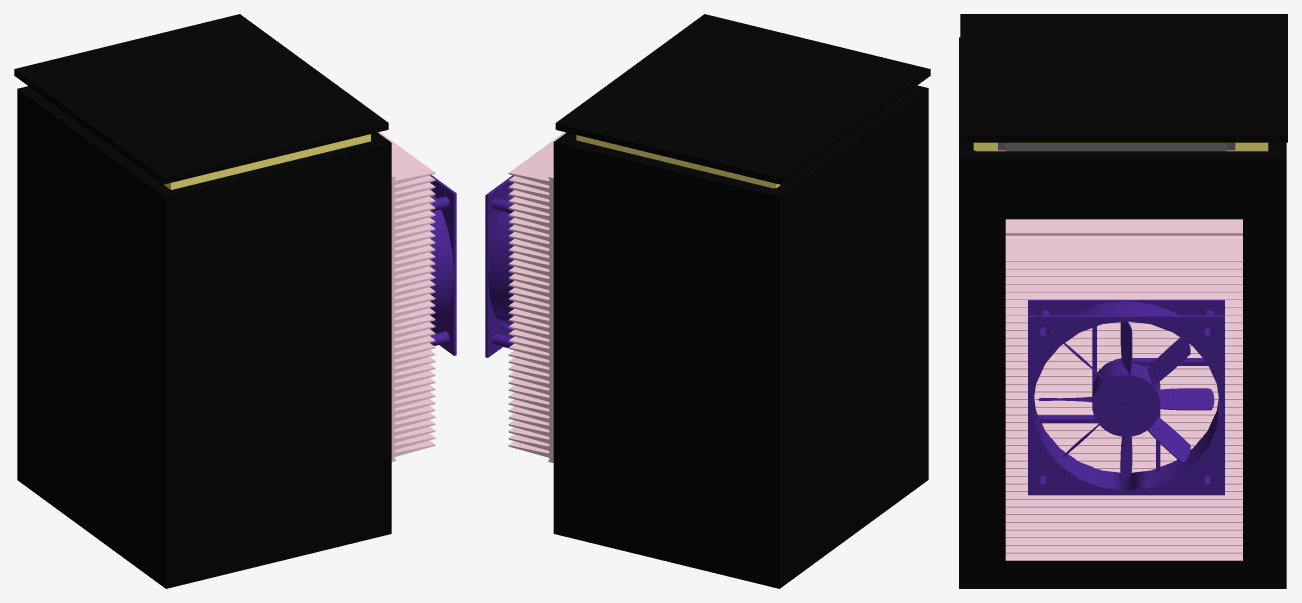
File: ifrost_explodedview.glb
The picture shows the model from 3 angles, left to right: view 1: azimuth 30°, elevation 25°; view 2: azimuth 150°, elevation 25°; view 3: azimuth 270°, elevation 25°; orthographic projection. The views are drawn at different scales.
Parts seen in each view (by area): view 1: CorpoCaixa, Tampa_solo, CoolerQuente, Ventilador.001, Revestimento; view 2: CorpoCaixa, Tampa_solo, CoolerQuente, Ventilador.001, Revestimento; view 3: CorpoCaixa, CoolerQuente, Tampa_solo, Ventilador.001, ParedeInterna, Revestimento.
Boxes of the visible parts, bbox=[...] form: CorpoCaixa: bbox=[17, 86, 391, 588]; Tampa_solo: bbox=[14, 14, 388, 184]; CoolerQuente: bbox=[378, 132, 435, 461]; Ventilador.001: bbox=[430, 175, 456, 355]; Revestimento: bbox=[164, 134, 370, 189]; CorpoCaixa: bbox=[553, 85, 928, 588]; Tampa_solo: bbox=[555, 14, 930, 184]; CoolerQuente: bbox=[508, 132, 566, 462]; Ventilador.001: bbox=[485, 175, 513, 357]; Revestimento: bbox=[576, 135, 780, 188]; CorpoCaixa: bbox=[959, 37, 1286, 588]; CoolerQuente: bbox=[1005, 219, 1242, 560]; Tampa_solo: bbox=[960, 14, 1287, 142]; Ventilador.001: bbox=[1028, 300, 1224, 495]; ParedeInterna: bbox=[998, 142, 1235, 151]; Revestimento: bbox=[973, 142, 1268, 151].
Bounding box in the file's own units: 1.26 × 1.52 × 1.
